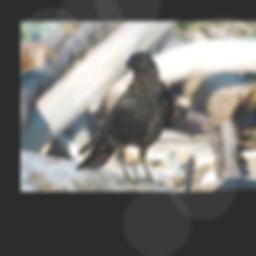Crow: (75, 49, 176, 185)
